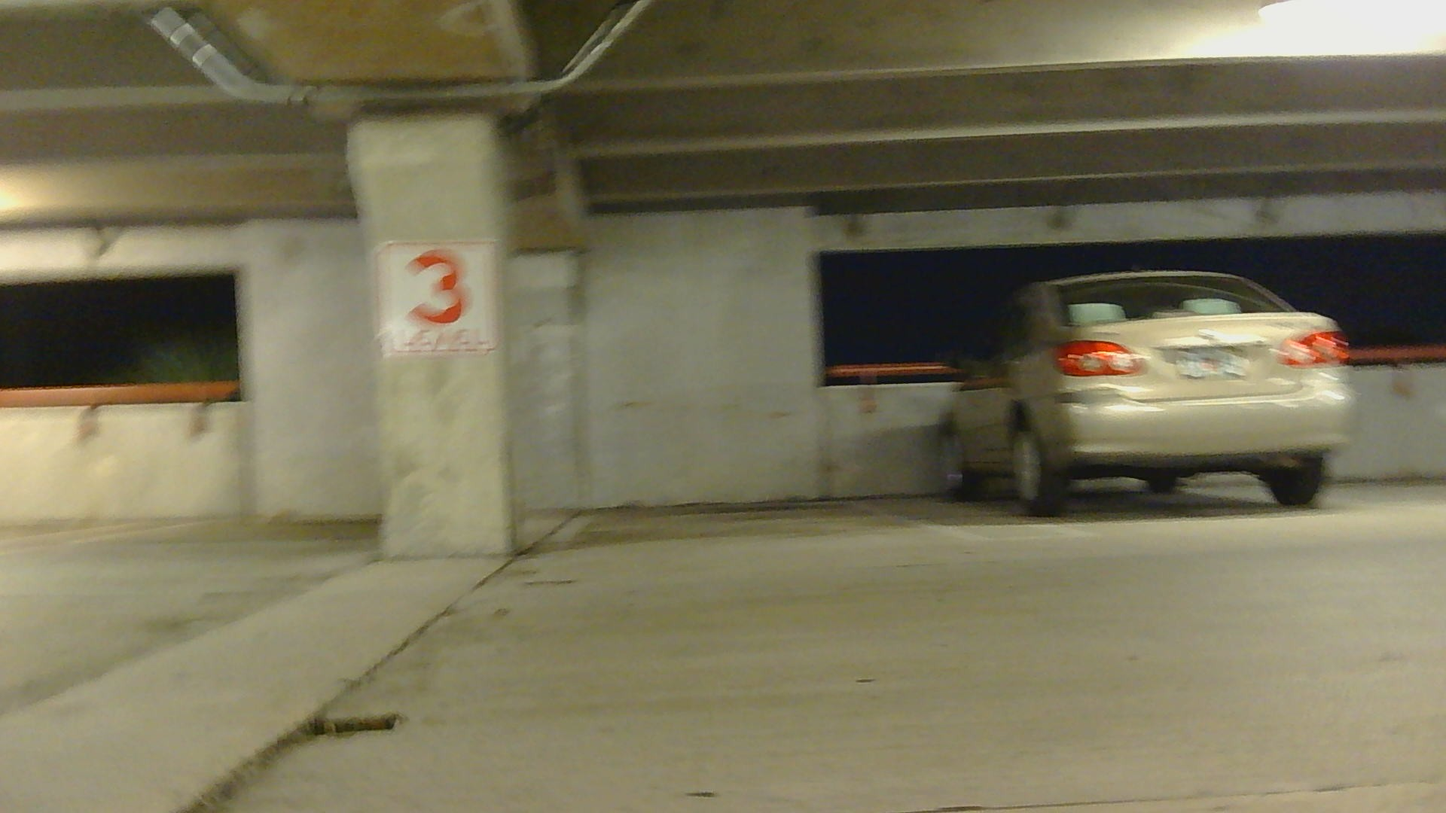empty_spot: (536, 418, 995, 546), (2, 465, 391, 554)
occupied_spot: (918, 264, 1361, 545)
